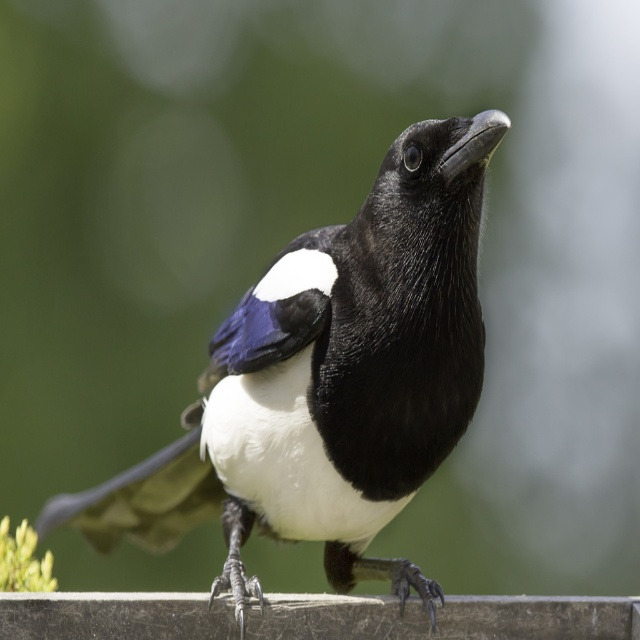Magpie: (35, 109, 511, 639)
